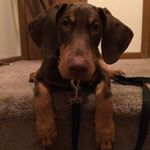puppy: (21, 2, 137, 150)
